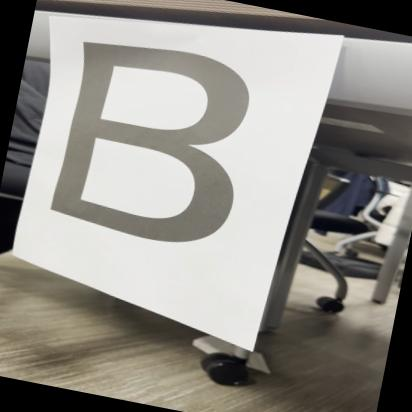seat: (28, 24, 289, 276)
